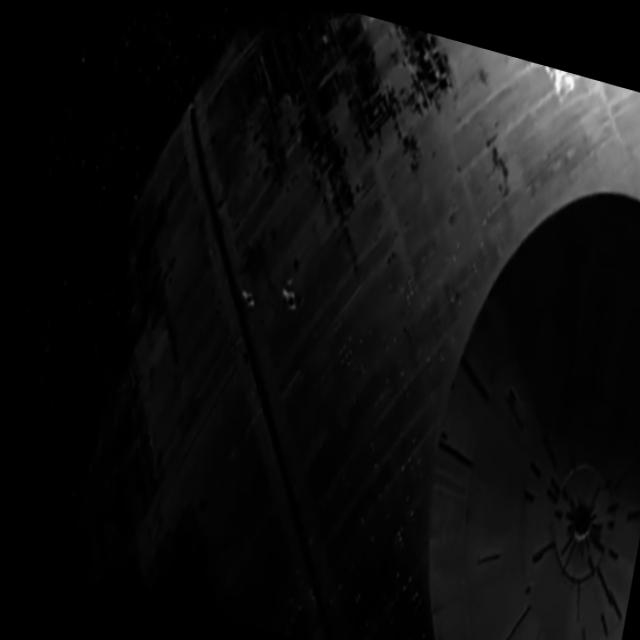death-stars: (60, 8, 640, 640)
